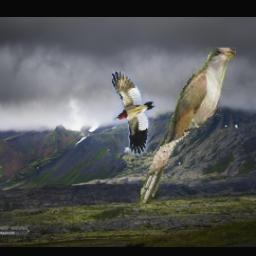Cuckoo: (141, 46, 236, 204)
Woodpecker: (111, 71, 154, 155)
